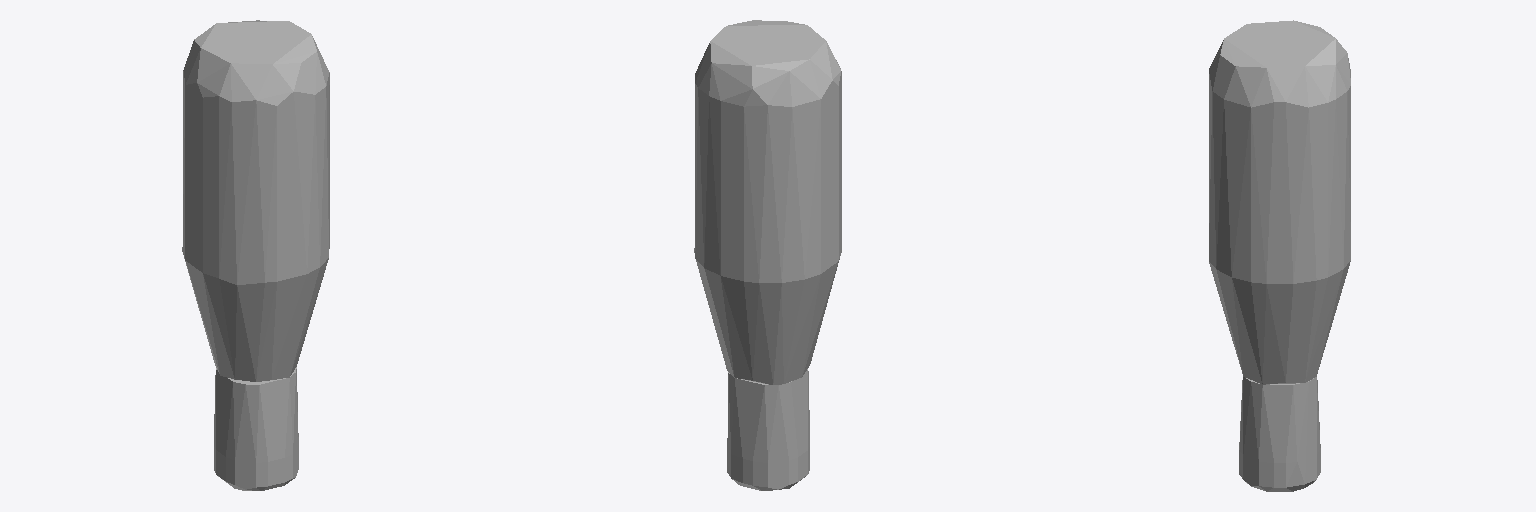
The robot description file, URDF, robot "root":
<robot name="root">
  <link name="link_c13219fac28e722edd6a2f6a8ecad52d_convex_piece_0">
    <inertial>
      <origin rpy="0 0 0" xyz="0 0 0"/>
      <mass value="1.76E-05"/>
      <inertia ixx="5.65E-08" ixy="-4.36E-12" ixz="9.91E-12" iyy="5.65E-08" iyz="-4.18E-12" izz="1.51E-09"/>
    </inertial>
    <visual>
      <origin rpy="0 0 0" xyz="0 0 0"/>
      <geometry>
        <mesh filename="c13219fac28e722edd6a2f6a8ecad52d_convex_piece_0.obj" scale="1.0000E+00"/>
      </geometry>
      <material name="">
        <color rgba="7.50E-01 7.50E-01 7.50E-01 1"/>
      </material>
    </visual>
    <collision>
      <origin rpy="0 0 0" xyz="0 0 0"/>
      <geometry>
        <mesh filename="c13219fac28e722edd6a2f6a8ecad52d_convex_piece_0.obj" scale="1.0000E+00"/>
      </geometry>
    </collision>
  </link>
  <link name="link_c13219fac28e722edd6a2f6a8ecad52d_convex_piece_1">
    <inertial>
      <origin rpy="0 0 0" xyz="0 0 0"/>
      <mass value="1.45E-04"/>
      <inertia ixx="1.89E-07" ixy="3.17E-11" ixz="5.29E-11" iyy="1.89E-07" iyz="1.21E-10" izz="3.64E-08"/>
    </inertial>
    <visual>
      <origin rpy="0 0 0" xyz="0 0 0"/>
      <geometry>
        <mesh filename="c13219fac28e722edd6a2f6a8ecad52d_convex_piece_1.obj" scale="1.0000E+00"/>
      </geometry>
      <material name="">
        <color rgba="7.50E-01 7.50E-01 7.50E-01 1"/>
      </material>
    </visual>
    <collision>
      <origin rpy="0 0 0" xyz="0 0 0"/>
      <geometry>
        <mesh filename="c13219fac28e722edd6a2f6a8ecad52d_convex_piece_1.obj" scale="1.0000E+00"/>
      </geometry>
    </collision>
  </link>
  <joint name="link_c13219fac28e722edd6a2f6a8ecad52d_convex_piece_1_joint" type="fixed">
    <origin rpy="0 0 0" xyz="0 0 0"/>
    <parent link="link_c13219fac28e722edd6a2f6a8ecad52d_convex_piece_0"/>
    <child link="link_c13219fac28e722edd6a2f6a8ecad52d_convex_piece_1"/>
  </joint>
</robot>

--- Facts derived from the render (not from the file) ---
The picture shows the robot from 3 angles, left to right: view 1: azimuth 30°, elevation 25°; view 2: azimuth 150°, elevation 25°; view 3: azimuth 270°, elevation 25°; orthographic projection.
Model root with 2 links and 1 joints (1 fixed), rooted at link_c13219fac28e722edd6a2f6a8ecad52d_convex_piece_0, posed all joints at 0.
Links seen in each view (by area): view 1: link_c13219fac28e722edd6a2f6a8ecad52d_convex_piece_1, link_c13219fac28e722edd6a2f6a8ecad52d_convex_piece_0; view 2: link_c13219fac28e722edd6a2f6a8ecad52d_convex_piece_1, link_c13219fac28e722edd6a2f6a8ecad52d_convex_piece_0; view 3: link_c13219fac28e722edd6a2f6a8ecad52d_convex_piece_1, link_c13219fac28e722edd6a2f6a8ecad52d_convex_piece_0.
Boxes of the visible links, x1,y1,x2,y2 form: link_c13219fac28e722edd6a2f6a8ecad52d_convex_piece_1: (182,20,329,381); link_c13219fac28e722edd6a2f6a8ecad52d_convex_piece_0: (214,367,298,490); link_c13219fac28e722edd6a2f6a8ecad52d_convex_piece_1: (694,20,841,384); link_c13219fac28e722edd6a2f6a8ecad52d_convex_piece_0: (727,369,809,490); link_c13219fac28e722edd6a2f6a8ecad52d_convex_piece_1: (1209,20,1350,384); link_c13219fac28e722edd6a2f6a8ecad52d_convex_piece_0: (1239,377,1320,491).
Size in the robot's own frame: 0.0463 by 0.0463 by 0.1553 metres.
Meshes: 2 distinct files referenced, 2 mesh visuals loaded (2 OBJ).